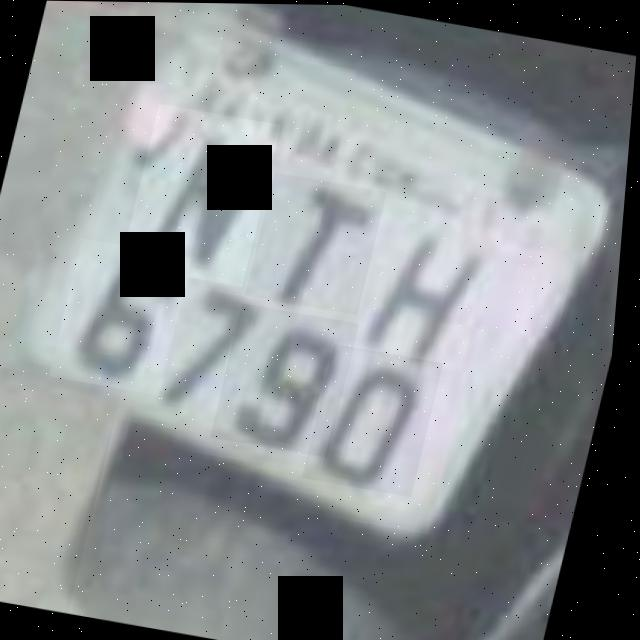0: (309, 342, 451, 496)
3: (0, 362, 132, 614)
6: (54, 238, 197, 395)
7: (139, 271, 275, 421)
9: (216, 302, 366, 457)
H: (351, 195, 503, 381)
N: (123, 103, 284, 286)
T: (249, 172, 391, 314)
